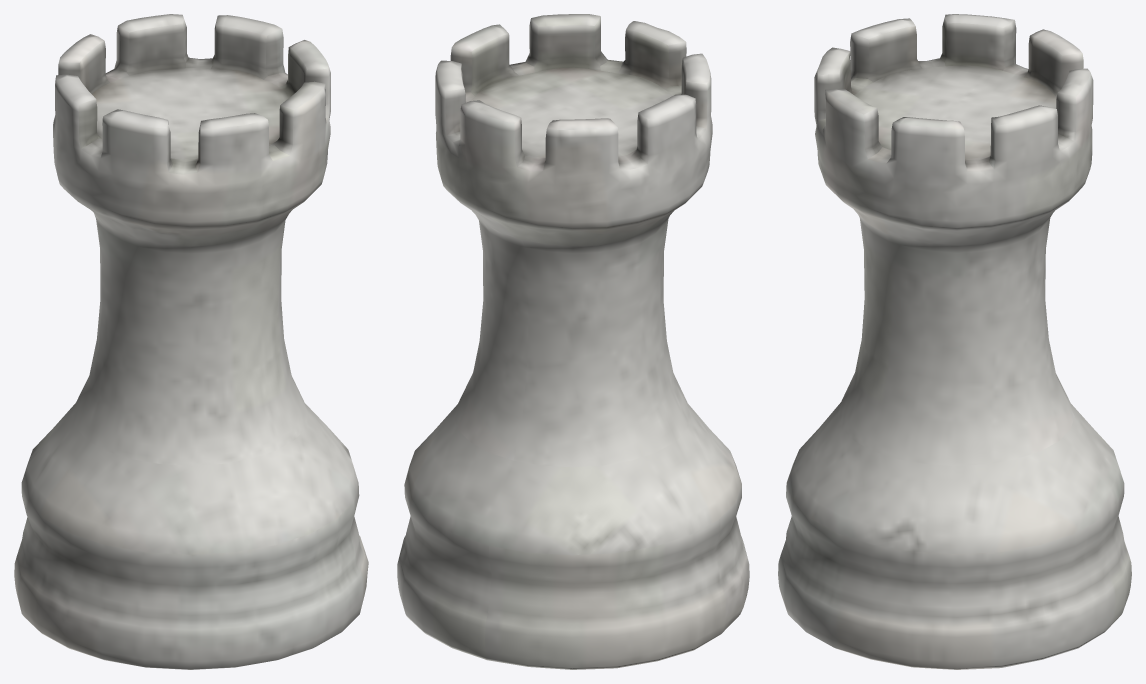
Rendered from chess_set__rook.glb.
3 views of the same model, side by side, from view 1: azimuth 30°, elevation 25°; view 2: azimuth 150°, elevation 25°; view 3: azimuth 270°, elevation 25° (orthographic).
Visible parts, largest first — view 1: chess_set_pieces_white; view 2: chess_set_pieces_white; view 3: chess_set_pieces_white.
Part boxes in pixels (x1,y1,x2,y2): chess_set_pieces_white: [14, 14, 368, 669]; chess_set_pieces_white: [397, 14, 749, 669]; chess_set_pieces_white: [778, 14, 1131, 669].
Bounding box in the file's own units: 0.0368 × 0.0606 × 0.0367.
Materials: 1 (1 with a texture image).
